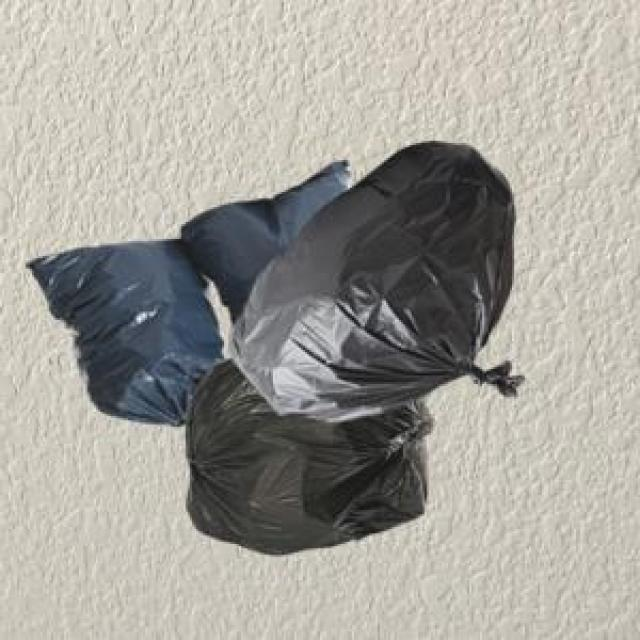Trashbag: (227, 135, 531, 412), (174, 388, 443, 562), (28, 230, 235, 438)
